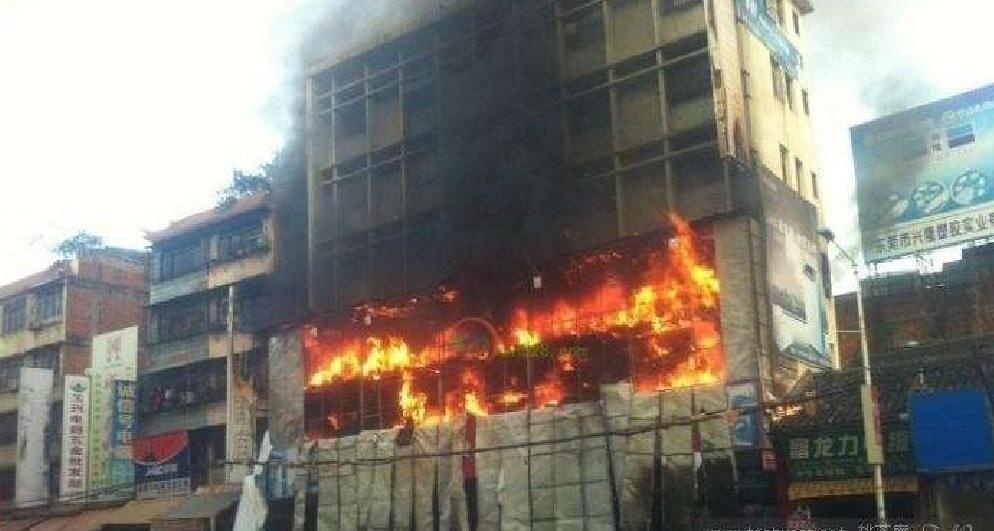fire: (301, 221, 741, 428)
